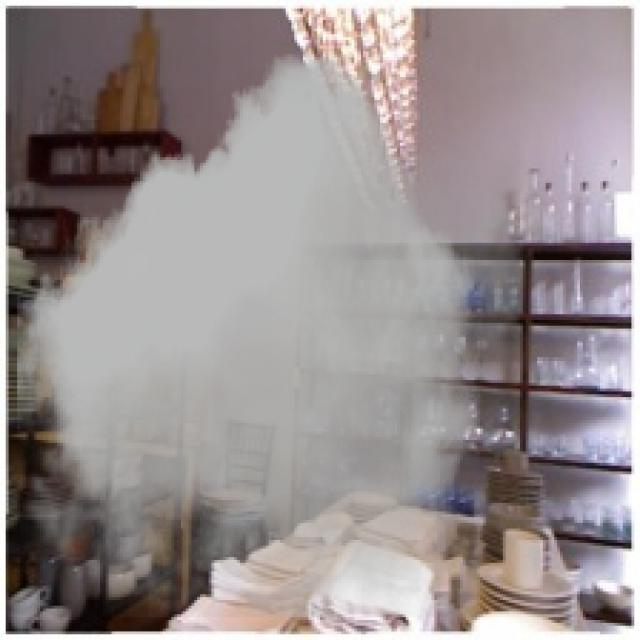smoke: (9, 54, 540, 617)
